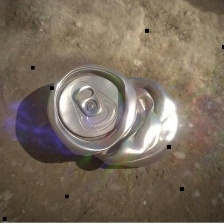can: (45, 61, 183, 170)
